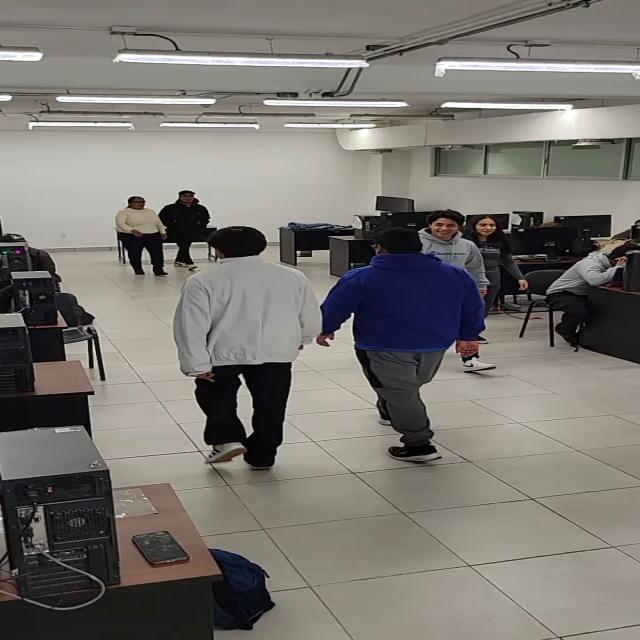Persona: (312, 229, 487, 464), (172, 225, 323, 470), (406, 209, 498, 375), (458, 214, 532, 314), (114, 195, 171, 278), (157, 190, 211, 270)
